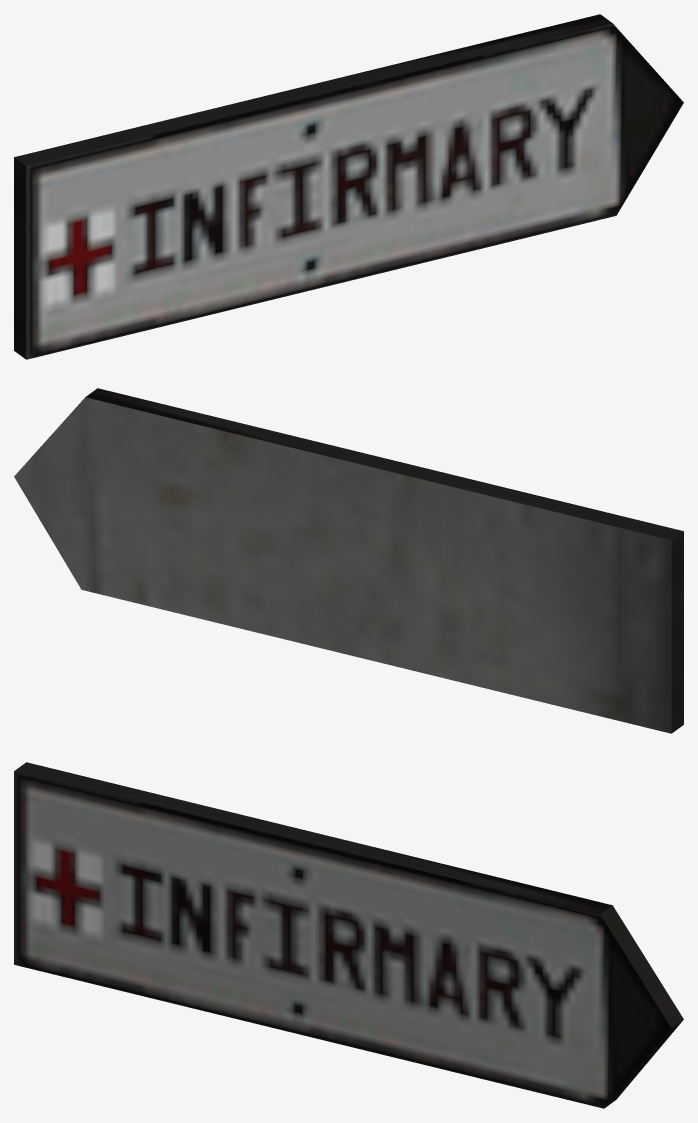
File: Training_Sign11.fbx
3 renders of one model, top to bottom at view 1: azimuth 30°, elevation 25°; view 2: azimuth 150°, elevation 25°; view 3: azimuth 330°, elevation 25°, orthographic.
Visible parts, largest first — view 1: tabula; view 2: tabula; view 3: tabula.
Boxes of the visible parts, x1,y1,x2,y2 form: tabula: (14, 14, 683, 359); tabula: (14, 388, 683, 733); tabula: (14, 762, 683, 1108).
Bounding box in the file's own units: 61.24 × 17.22 × 2.
